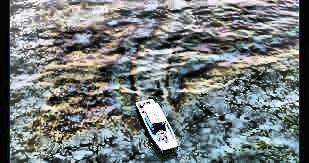rainbow: (39, 0, 299, 141)
